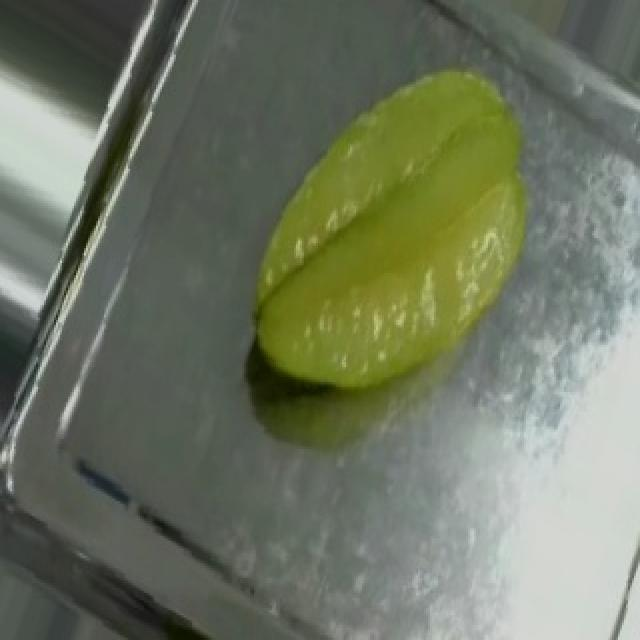fruit: (200, 15, 596, 432)
